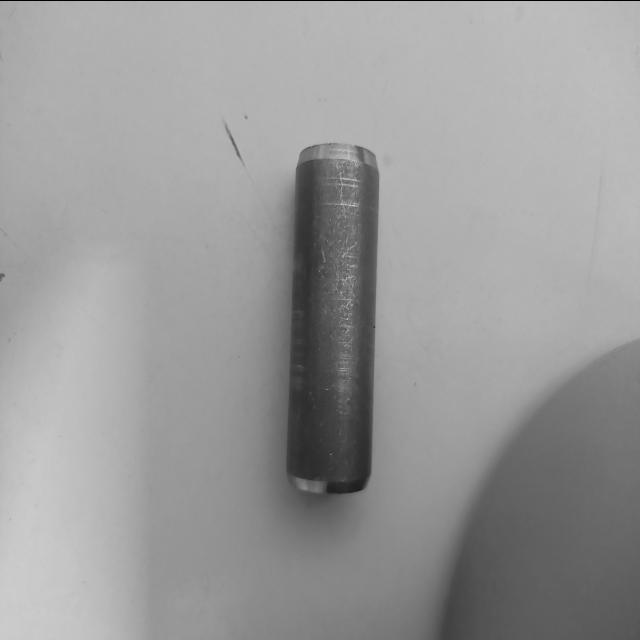Broken: (285, 140, 380, 492)
